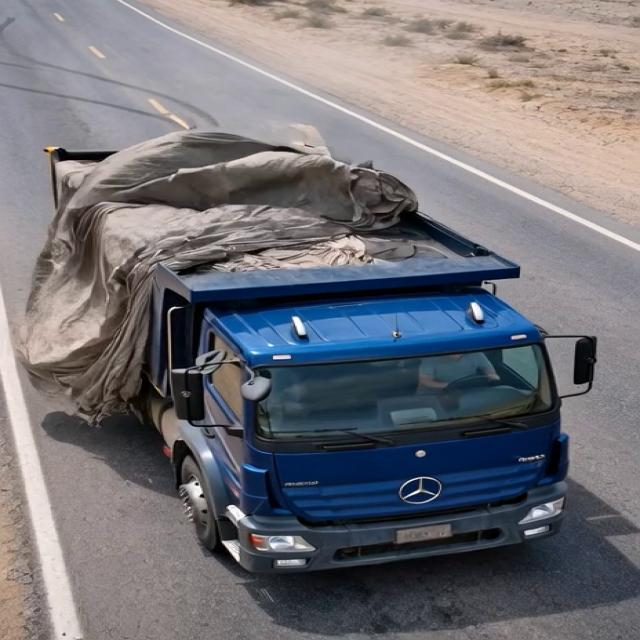trailer: (31, 138, 536, 280)
truck: (12, 102, 598, 574)
